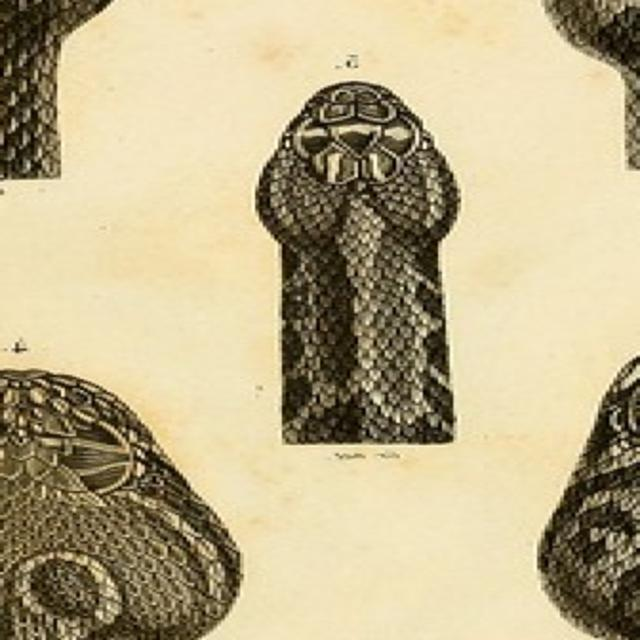snake: (255, 79, 465, 445), (0, 364, 248, 640), (537, 311, 640, 640), (0, 0, 137, 180)
